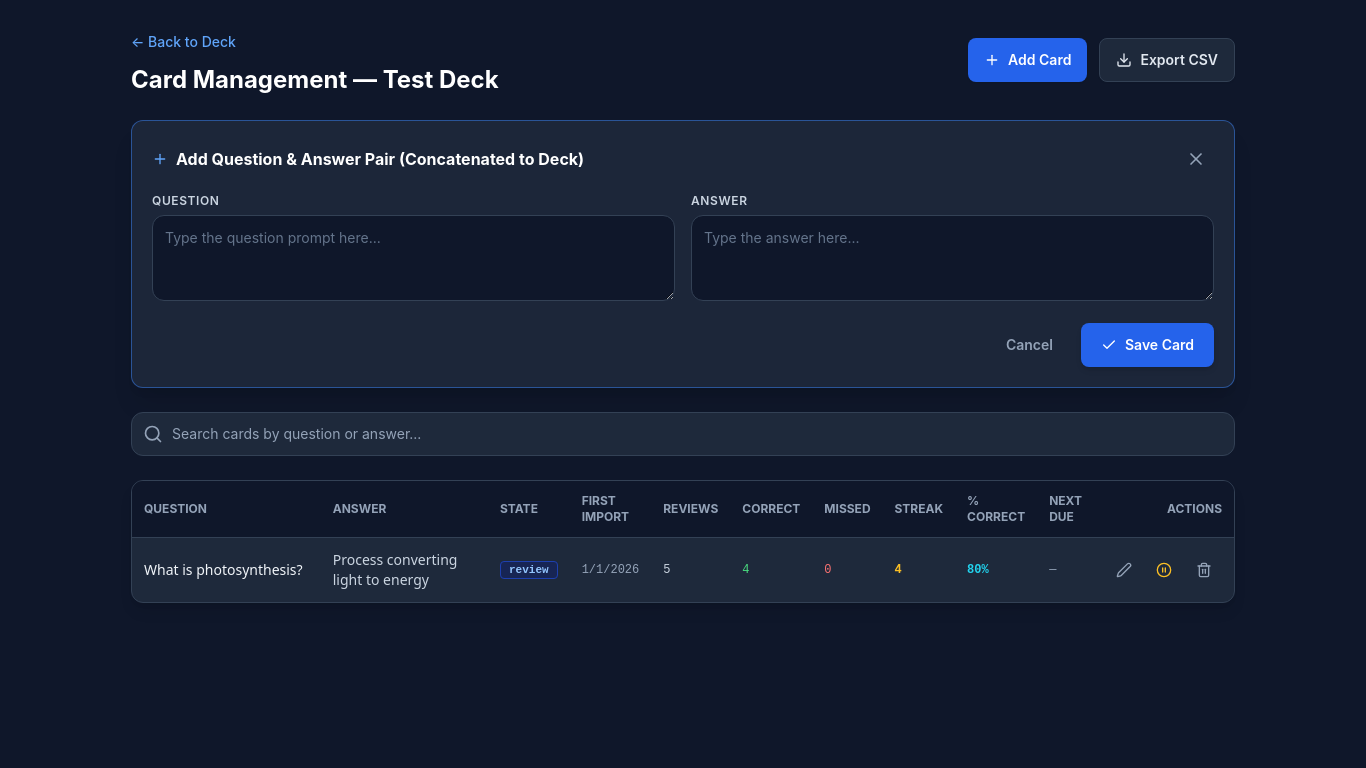
Test case: CardManagementView (MGT-001..MGT-011) › MGT-010: Rejects blank question or answer when manually adding a card
Step 1. Click the button "Save Card" → (1148, 345), box [1081, 323, 1214, 367]
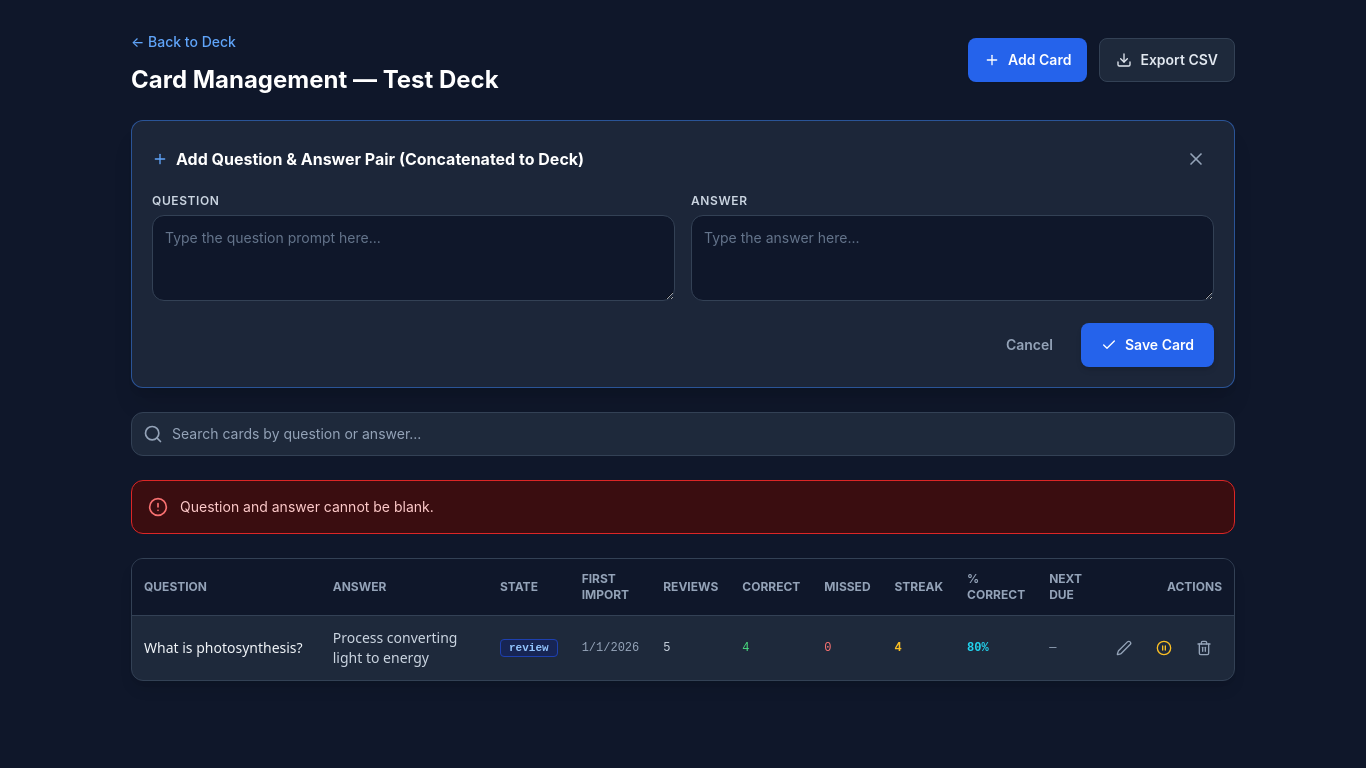
Expected: the text "Question and answer cannot be blank." is shown, [180, 497, 434, 517]
